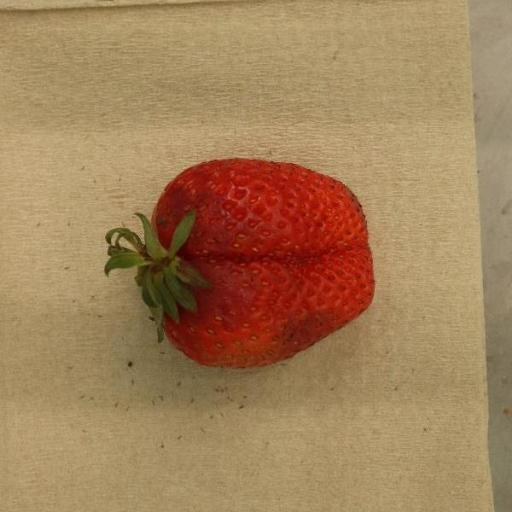Strawberry: (103, 158, 375, 369)
